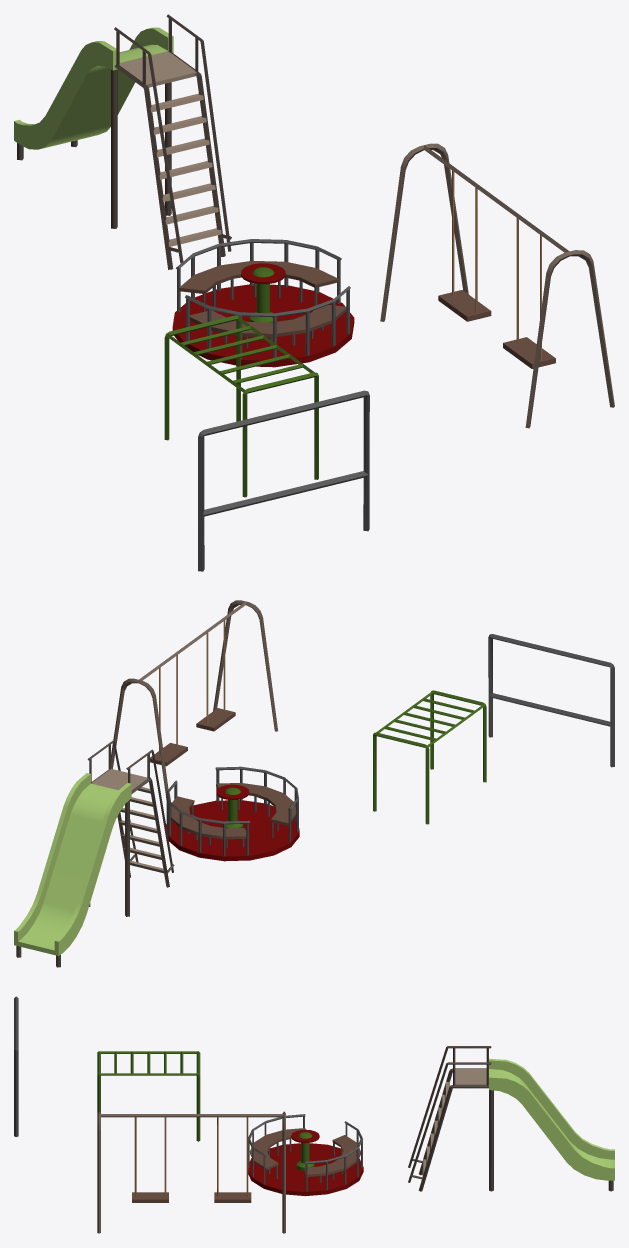
Rendered from Playground.fbx.
The picture shows the model from 3 angles, top to bottom: view 1: azimuth 30°, elevation 25°; view 2: azimuth 150°, elevation 25°; view 3: azimuth 270°, elevation 25°; orthographic projection. The views are drawn at different scales.
Visible parts, largest first — view 1: Playground_Slide, Playground_Roundabout, Playground_Swing, Playground_Bar, Playground_Trzepak; view 2: Playground_Slide, Playground_Roundabout, Playground_Swing, Playground_Bar, Playground_Trzepak; view 3: Playground_Slide, Playground_Roundabout, Playground_Swing, Playground_Bar, Playground_Trzepak.
Boxes of the visible parts, left/top/right/bottom form: Playground_Slide: left=14, top=14, right=231, bottom=269; Playground_Roundabout: left=172, top=239, right=354, bottom=367; Playground_Swing: left=380, top=143, right=614, bottom=428; Playground_Bar: left=164, top=315, right=318, bottom=497; Playground_Trzepak: left=198, top=390, right=369, bottom=571; Playground_Slide: left=14, top=740, right=174, bottom=967; Playground_Roundabout: left=166, top=766, right=299, bottom=861; Playground_Swing: left=111, top=600, right=277, bottom=799; Playground_Bar: left=373, top=690, right=486, bottom=824; Playground_Trzepak: left=488, top=634, right=614, bottom=767; Playground_Slide: left=408, top=1046, right=614, bottom=1191; Playground_Roundabout: left=248, top=1114, right=363, bottom=1196; Playground_Swing: left=97, top=1111, right=285, bottom=1233; Playground_Bar: left=97, top=1051, right=200, bottom=1141; Playground_Trzepak: left=14, top=996, right=18, bottom=1136.
Bounding box in the file's own units: 1074 × 431 × 1820.
